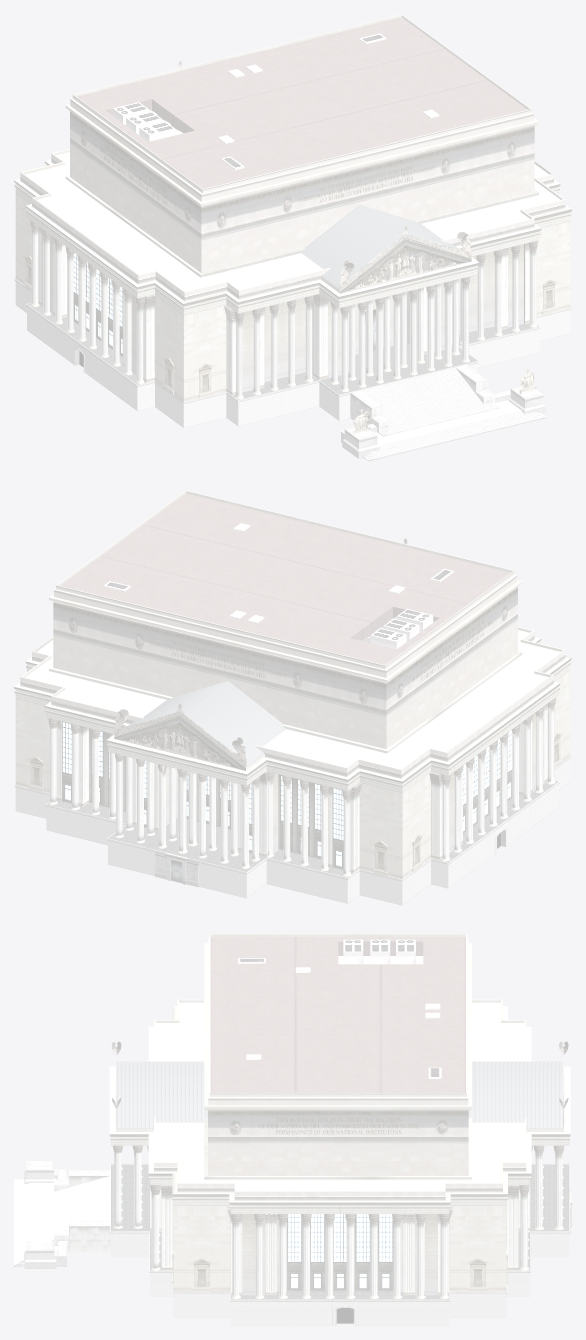
File: nationalarchives.FBX
3 renders of one model, top to bottom at view 1: azimuth 30°, elevation 25°; view 2: azimuth 150°, elevation 25°; view 3: azimuth 270°, elevation 25°, orthographic.
Visible parts, largest first — view 1: nationalarchives; view 2: nationalarchives; view 3: nationalarchives.
Boxes of the visible parts, x1,y1,x2,y2 form: nationalarchives: [14, 14, 571, 461]; nationalarchives: [14, 490, 571, 905]; nationalarchives: [14, 934, 571, 1325].
Bounding box in the file's own units: 8926 × 4385 × 10284.
Materials: 1 (1 with a texture image).
